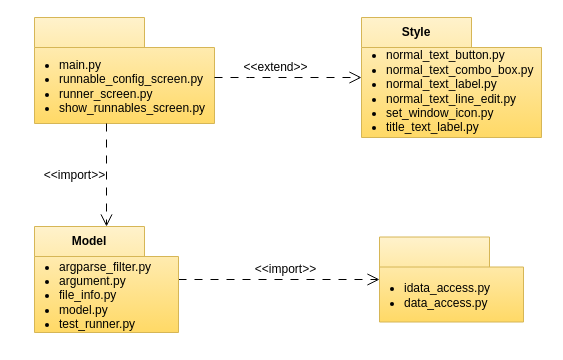
The diagram is 563 pixels wide and 360 high, and some of its shapes have lost their labels. Here are the shapes that lost their labels. From the top down, the centre of each, then its label:
the point at 124,70: View
the point at 451,279: Persistence
